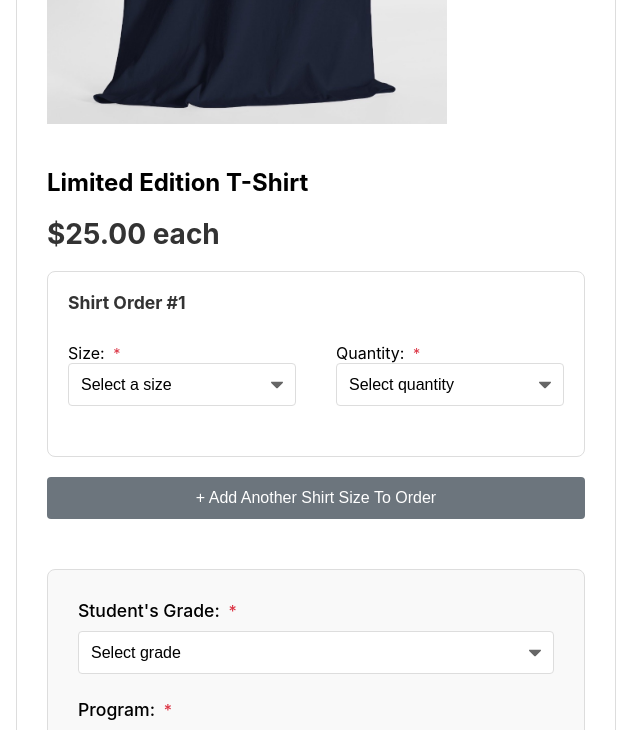
Test: HomeView — error state when checkout API fails › shows an error message when the checkout API returns a non-ok response
(page scrolled)
Select "M" in the dropdown with id "size-0" at x=182, y=385, box [68,363,296,406]
Select "1" in the dropdown labelled "Quantity: *" at x=450, y=385, box [336,363,564,406]
(page scrolled)
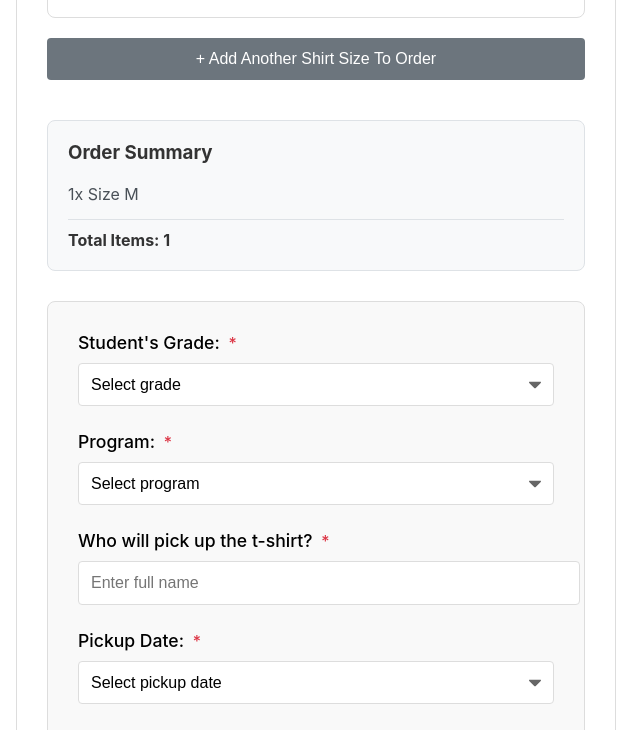
Select "Grade 3" in the dropdown with id "grade" at x=316, y=385, box [78,363,554,406]
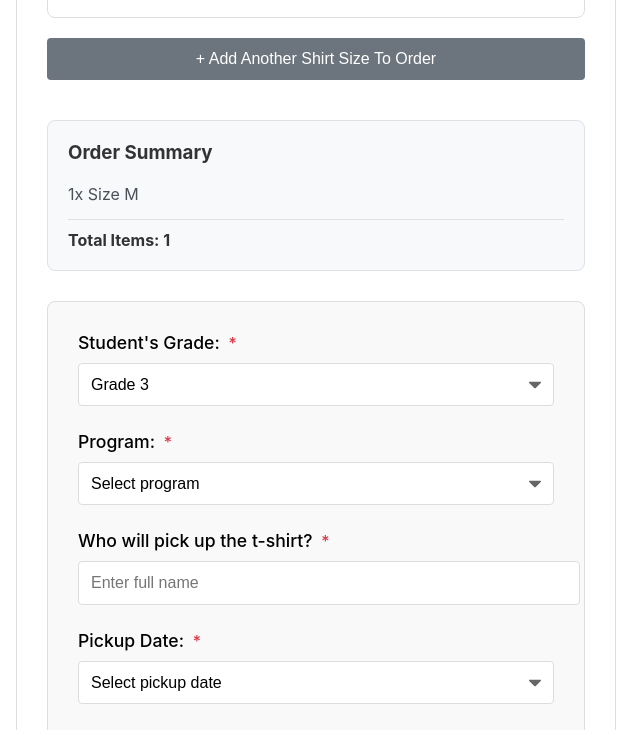
Select "Japanese" in the dropdown labelled "Program: *" at x=316, y=484, box [78,462,554,505]
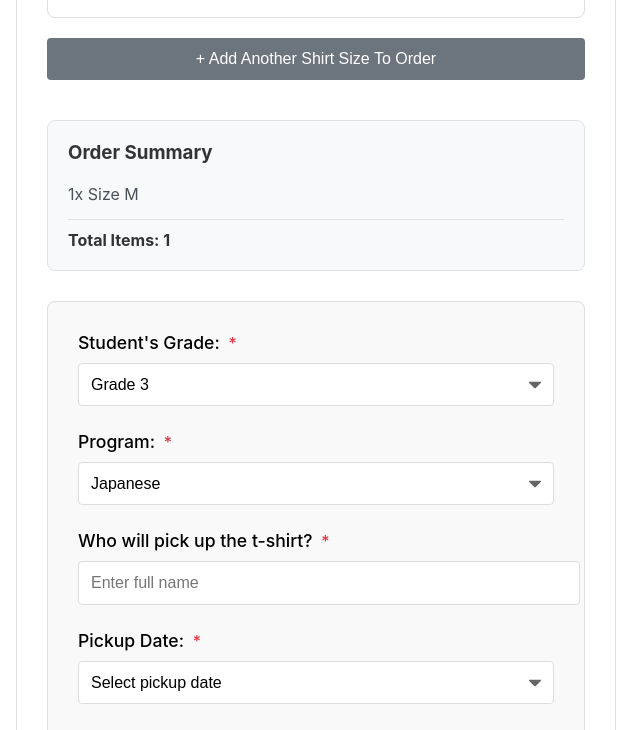
Type "Jane Doe" into the field labelled "Who will pick up the t-shirt? *" at x=329, y=583, box [78,561,580,605]
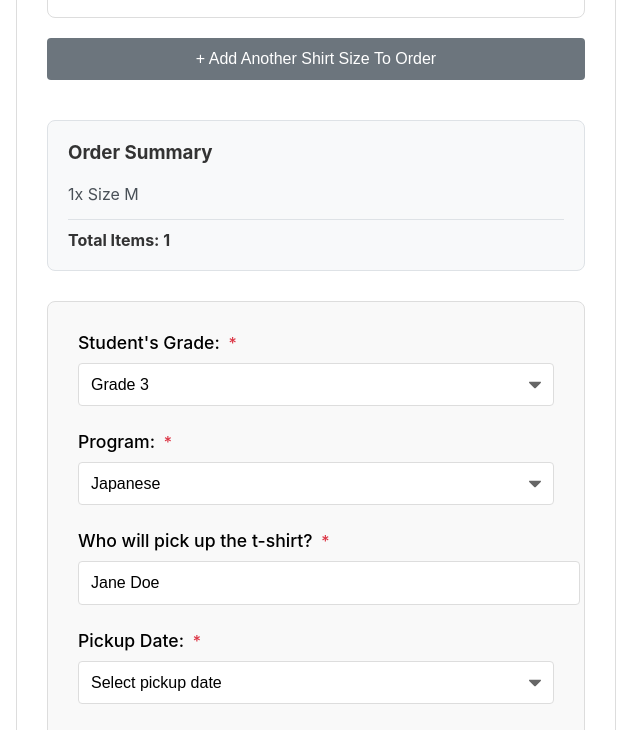
Select "2/15" in the dropdown labelled "Pickup Date: *" at x=316, y=683, box [78,661,554,704]
(page scrolled)
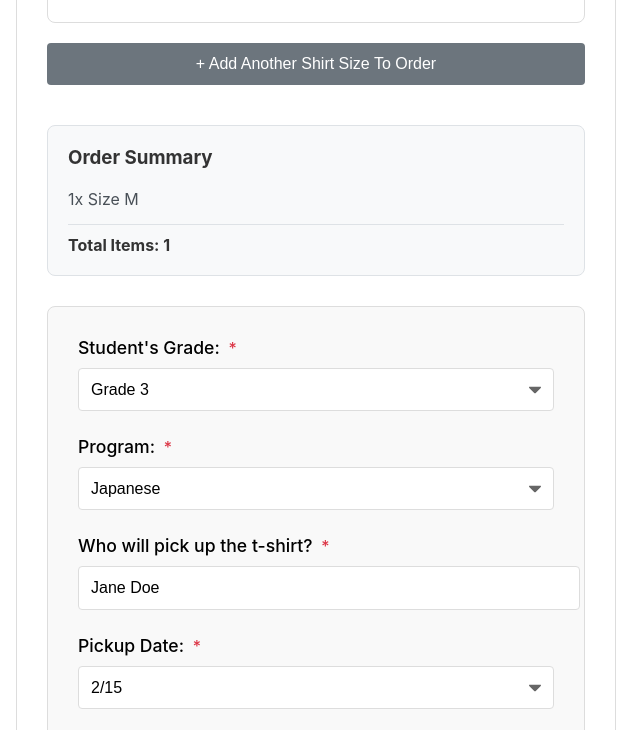
Submit the form
(page scrolled)
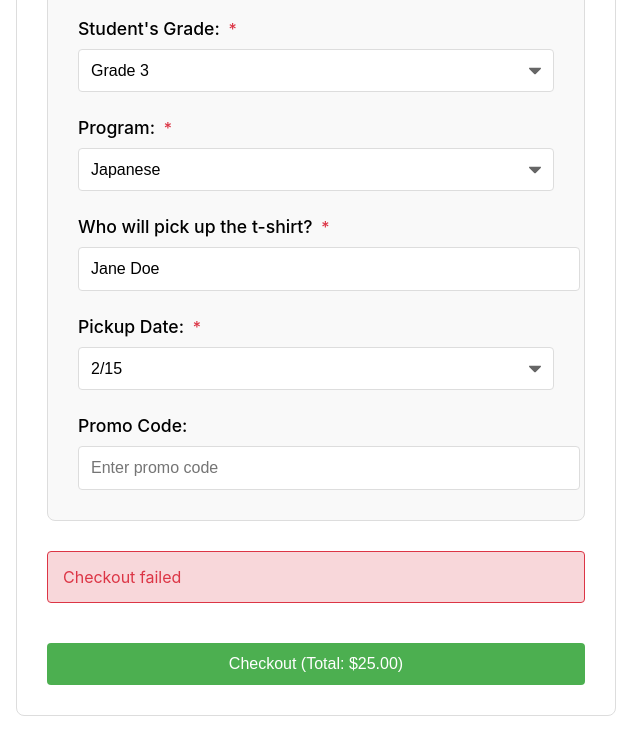
Now the text "Checkout failed" is shown, box [47,551,585,603]
Now the text with class "error-message" reads "Checkout failed", box [63,567,181,587]
